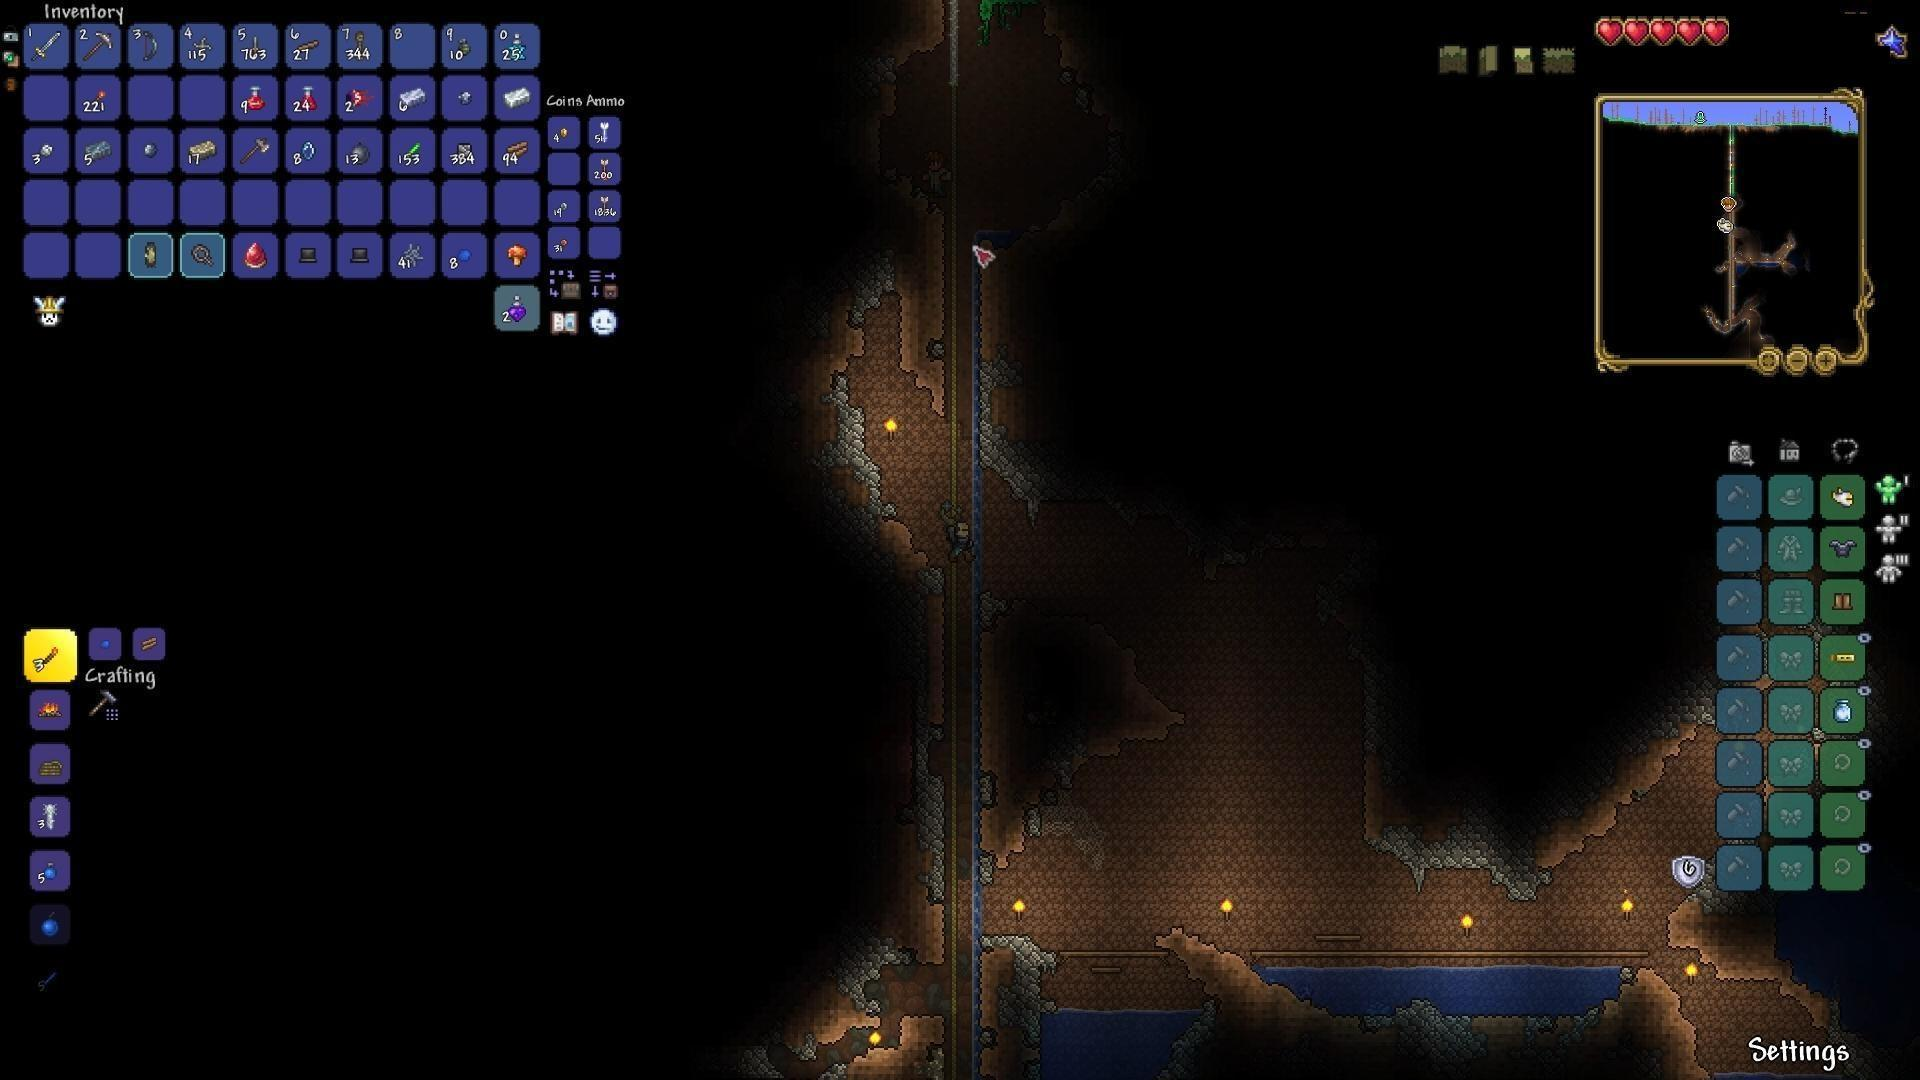heart: (1702, 17, 1733, 51), (1593, 16, 1626, 46), (1676, 15, 1704, 50), (1650, 16, 1676, 49), (1625, 15, 1651, 44)
liquid: (1261, 963, 1619, 980), (1050, 992, 1197, 1025)
stone: (1366, 833, 1547, 911), (819, 367, 889, 530), (898, 716, 955, 911), (980, 355, 1050, 512), (977, 924, 1050, 1040), (1644, 682, 1720, 760), (829, 931, 907, 997), (851, 223, 891, 331)
